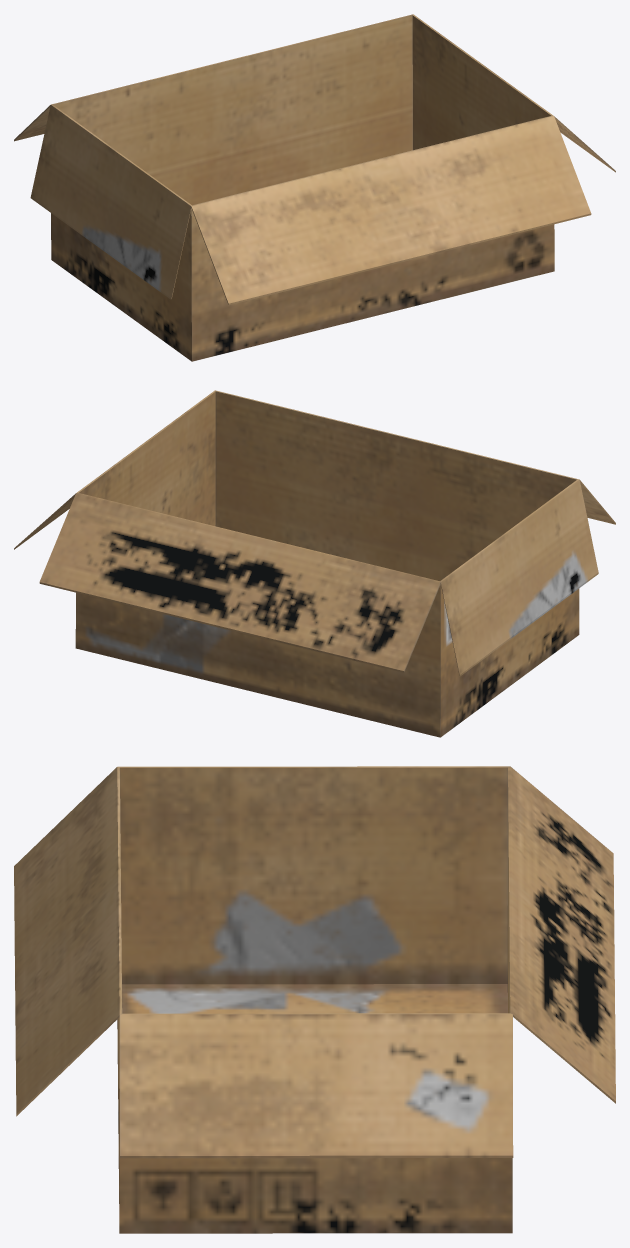
File: Prop_CardboardBox_4.fbx
3 views of the same model, one above another, from view 1: azimuth 30°, elevation 25°; view 2: azimuth 150°, elevation 25°; view 3: azimuth 270°, elevation 25° (orthographic). The views are drawn at different scales.
Parts seen in each view (by area): view 1: Prop_CardboardBox_4; view 2: Prop_CardboardBox_4; view 3: Prop_CardboardBox_4.
Part boxes in pixels (bbox=[...]): Prop_CardboardBox_4: bbox=[14, 14, 615, 361]; Prop_CardboardBox_4: bbox=[14, 390, 615, 737]; Prop_CardboardBox_4: bbox=[14, 766, 615, 1233].
Bounding box in the file's own units: 19.26 × 6.46 × 16.
